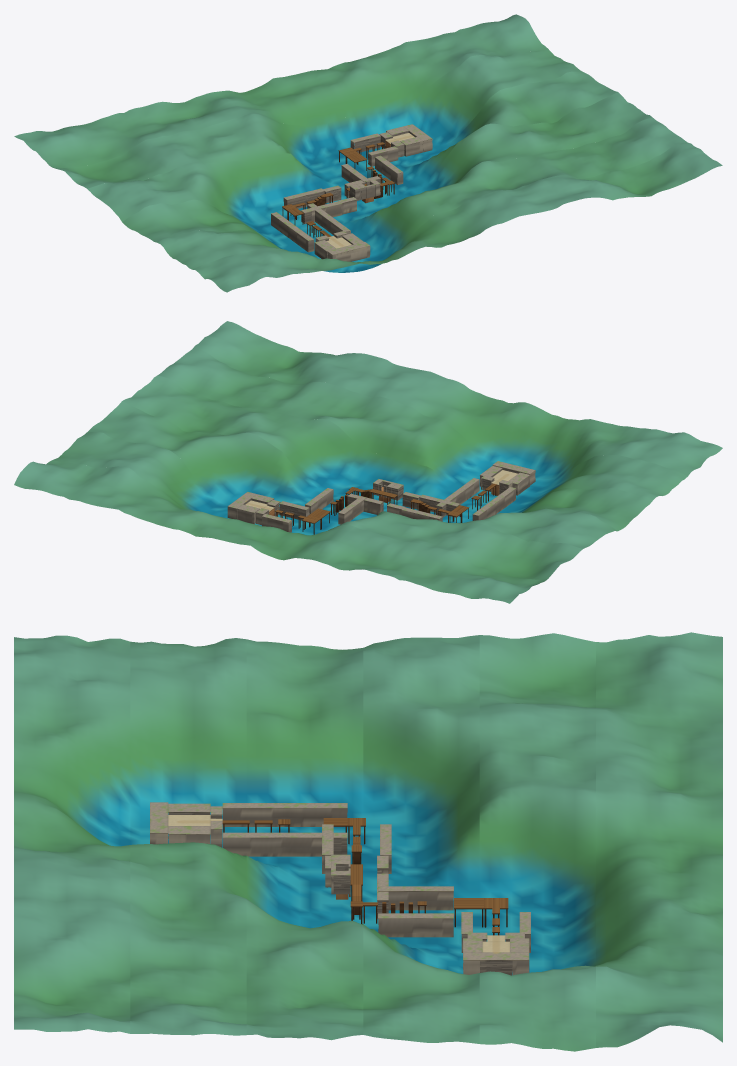
The model's file is pier_party_terrain.glb.
3 views of the same model, one above another, from view 1: azimuth 30°, elevation 25°; view 2: azimuth 150°, elevation 25°; view 3: azimuth 270°, elevation 25° (orthographic). The views are drawn at different scales.
Parts seen in each view (by area): view 1: backdrop_5, backdrop_4, backdrop_3, backdrop_1, backdrop_0, backdrop_2, terrain_C, terrain_I, terrain_D, terrain_A, terrain_G, terrain_J (+2 smaller); view 2: backdrop_0, backdrop_1, backdrop_5, backdrop_2, backdrop_3, backdrop_4, terrain_C, terrain_I, terrain_G, terrain_F, terrain_D, terrain_A (+2 smaller); view 3: backdrop_5, backdrop_0, backdrop_4, backdrop_1, backdrop_3, backdrop_2, terrain_C, terrain_G, terrain_A, terrain_J, terrain_F, terrain_I (+2 smaller).
Part boxes in pixels (left/top/right/bottom): backdrop_5: left=14, top=14, right=547, bottom=168; backdrop_4: left=53, top=48, right=582, bottom=188; backdrop_3: left=87, top=71, right=617, bottom=224; backdrop_1: left=157, top=117, right=687, bottom=272; backdrop_0: left=192, top=142, right=722, bottom=292; backdrop_2: left=122, top=92, right=652, bottom=250; terrain_C: left=271, top=203, right=350, bottom=252; terrain_I: left=338, top=132, right=404, bottom=166; terrain_D: left=282, top=188, right=342, bottom=224; terrain_A: left=314, top=233, right=370, bottom=261; terrain_G: left=341, top=155, right=403, bottom=195; terrain_J: left=386, top=124, right=432, bottom=156; backdrop_0: left=192, top=321, right=722, bottom=479; backdrop_1: left=157, top=349, right=687, bottom=507; backdrop_5: left=14, top=460, right=547, bottom=603; backdrop_2: left=122, top=375, right=652, bottom=530; backdrop_3: left=87, top=401, right=617, bottom=548; backdrop_4: left=52, top=432, right=582, bottom=579; terrain_C: left=436, top=478, right=516, bottom=522; terrain_I: left=255, top=500, right=321, bottom=534; terrain_G: left=305, top=487, right=366, bottom=524; terrain_F: left=347, top=479, right=403, bottom=514; terrain_D: left=401, top=494, right=461, bottom=522; terrain_A: left=480, top=461, right=535, bottom=495; backdrop_5: left=596, top=632, right=722, bottom=1047; backdrop_0: left=14, top=635, right=130, bottom=1033; backdrop_4: left=479, top=633, right=595, bottom=1051; backdrop_1: left=130, top=638, right=246, bottom=1035; backdrop_3: left=363, top=635, right=479, bottom=1043; backdrop_2: left=246, top=639, right=363, bottom=1040; terrain_C: left=222, top=803, right=347, bottom=856; terrain_G: left=350, top=886, right=453, bottom=937; terrain_A: left=150, top=802, right=210, bottom=844; terrain_J: left=463, top=938, right=529, bottom=975; terrain_F: left=331, top=854, right=388, bottom=919; terrain_I: left=461, top=898, right=530, bottom=952.
Size of the model in its own units: 630 by 65.3 by 469.
